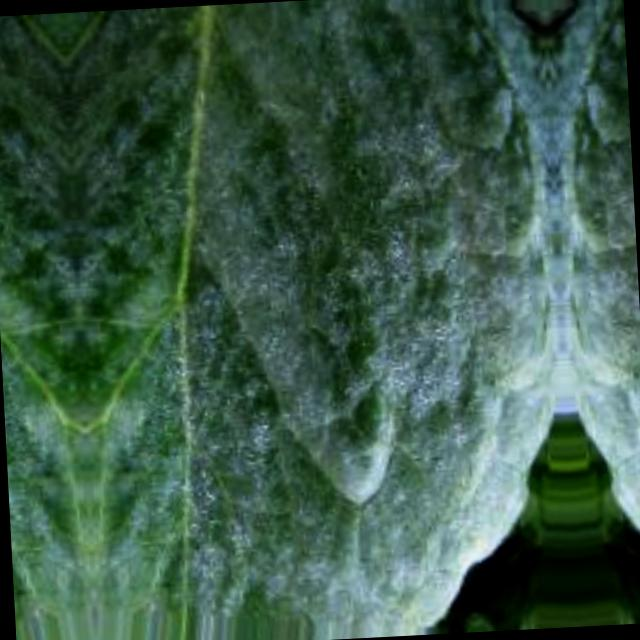Powdery_mildew: (63, 0, 565, 619), (0, 18, 93, 623), (553, 0, 640, 593)
